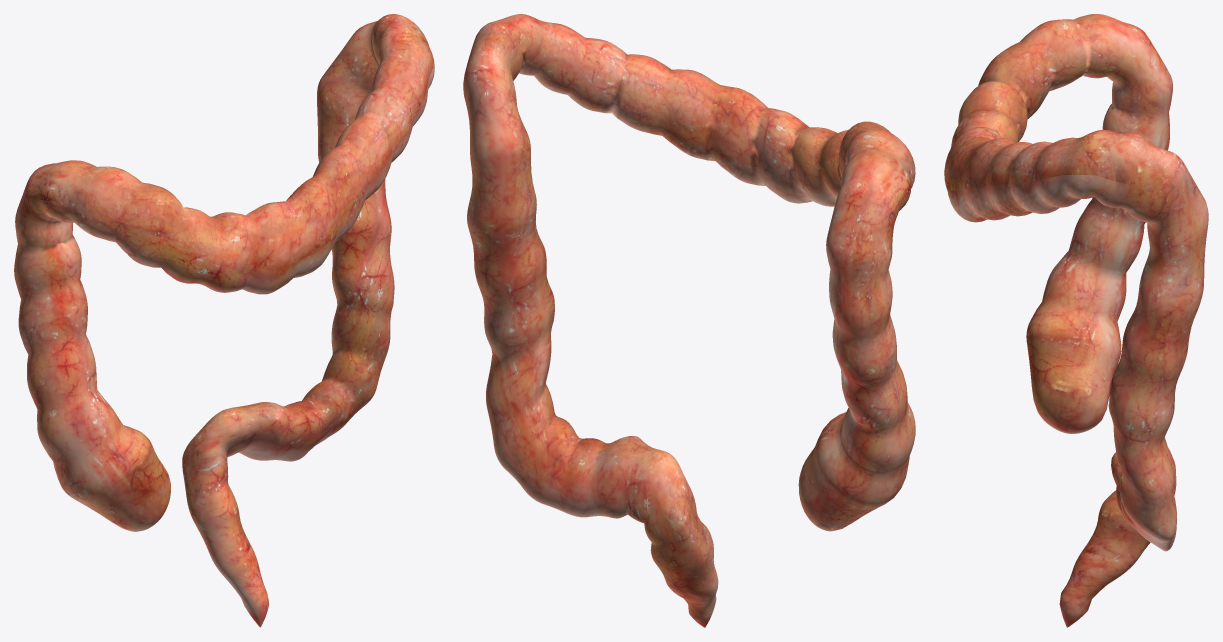
3 renders of one model, left to right at view 1: azimuth 30°, elevation 25°; view 2: azimuth 150°, elevation 25°; view 3: azimuth 270°, elevation 25°, orthographic. The views are drawn at different scales.
Visible parts, largest first — view 1: Cube.003; view 2: Cube.003; view 3: Cube.003.
Boxes of the visible parts, x1,y1,x2,y2 form: Cube.003: (14, 14, 434, 627); Cube.003: (463, 14, 915, 627); Cube.003: (944, 14, 1208, 627).
Bounding box in the file's own units: 25.3 × 33.45 × 13.87.
Materials: 1 (1 with a texture image).
